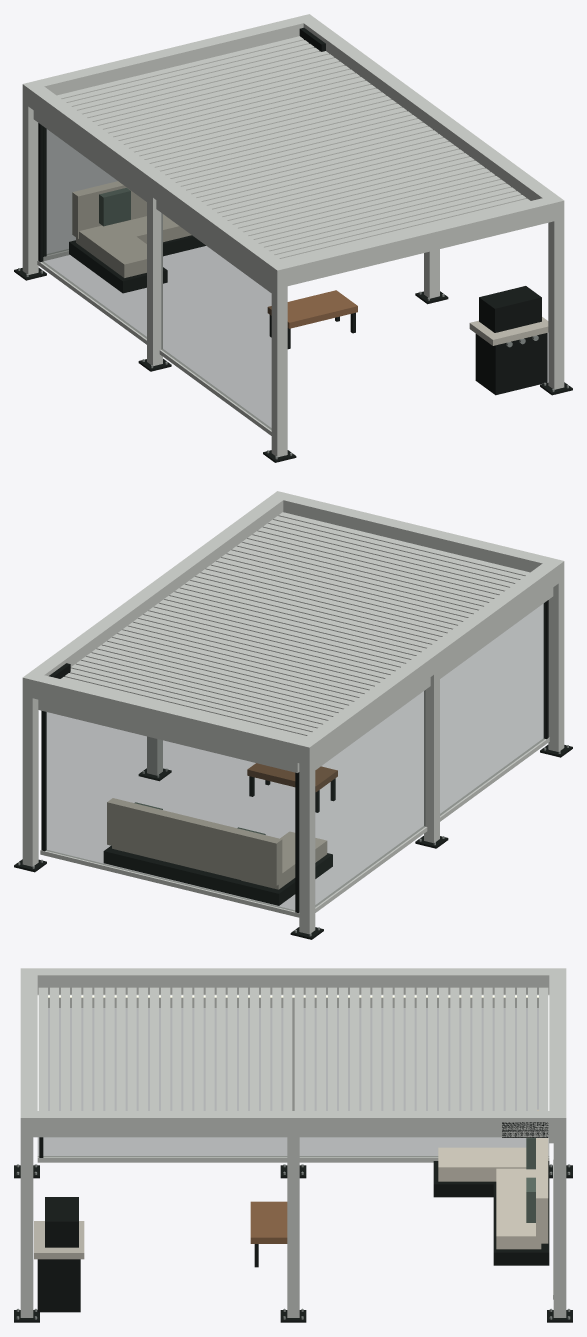
File: coordinatez-axis-13x20-cloud.glb
3 views of the same model, one above another, from view 1: azimuth 30°, elevation 25°; view 2: azimuth 150°, elevation 25°; view 3: azimuth 270°, elevation 25° (orthographic). The views are drawn at different scales.
Parts seen in each view (by area): view 1: Left motorized wall, Structural post (×5), Left beam, Front motor beam, Right beam, Rear drainage beam, Rear motorized wall, BBQ cabinet, Chaise cushion, BBQ hood, Left wall cassette, Left wall bottom rail (+52 smaller); view 2: Rear motorized wall, Left motorized wall, Structural post (×5), Sofa back, Left beam, Rear drainage beam, Right beam, Front motor beam, Sofa base, Rear wall cassette, Left wall cassette, Left wall bottom rail (+49 smaller); view 3: Left motorized wall, Right beam, Left beam, Structural post (×3), Front motor beam, Rear drainage beam, Sofa seat, Left wall bottom rail, Chaise cushion, BBQ cabinet, BBQ hood, Coffee table top (+53 smaller).
Part boxes in pixels (left/top/right/bottom): Left motorized wall: left=41, top=125, right=271, bottom=429; Structural post (×5): left=22, top=102, right=564, bottom=457; Left beam: left=22, top=81, right=291, bottom=288; Front motor beam: left=269, top=195, right=564, bottom=288; Right beam: left=296, top=16, right=564, bottom=221; Rear drainage beam: left=23, top=14, right=316, bottom=105; Rear motorized wall: left=47, top=130, right=116, bottom=254; BBQ cabinet: left=475, top=333, right=547, bottom=395; Chaise cushion: left=76, top=223, right=146, bottom=277; BBQ hood: left=479, top=286, right=541, bottom=332; Left wall cassette: left=33, top=110, right=271, bottom=292; Left wall bottom rail: left=37, top=260, right=271, bottom=435; Rear motorized wall: left=41, top=711, right=294, bottom=911; Left motorized wall: left=315, top=602, right=545, bottom=906; Structural post (×5): left=22, top=579, right=564, bottom=934; Sofa back: left=107, top=798, right=282, bottom=885; Left beam: left=295, top=558, right=563, bottom=765; Rear drainage beam: left=22, top=672, right=317, bottom=764; Right beam: left=22, top=492, right=290, bottom=698; Front motor beam: left=270, top=491, right=564, bottom=580; Sofa base: left=103, top=846, right=295, bottom=905; Rear wall cassette: left=38, top=699, right=299, bottom=772; Left wall cassette: left=315, top=587, right=553, bottom=769; Left wall bottom rail: left=315, top=737, right=549, bottom=912; Left motorized wall: left=38, top=1008, right=548, bottom=1156; Right beam: left=20, top=1111, right=566, bottom=1137; Left beam: left=21, top=968, right=565, bottom=994; Structural post (×3): left=20, top=1137, right=566, bottom=1317; Front motor beam: left=20, top=968, right=37, bottom=1137; Rear drainage beam: left=549, top=968, right=566, bottom=1137; Sofa seat: left=496, top=1168, right=541, bottom=1249; Left wall bottom rail: left=37, top=1156, right=549, bottom=1162; Chaise cushion: left=438, top=1147, right=526, bottom=1181; BBQ cabinet: left=37, top=1259, right=80, bottom=1312; BBQ hood: left=45, top=1197, right=78, bottom=1247; Coffee table top: left=250, top=1201, right=287, bottom=1243.
Size of the model in its own units: 4.11 by 2.49 by 6.25.
